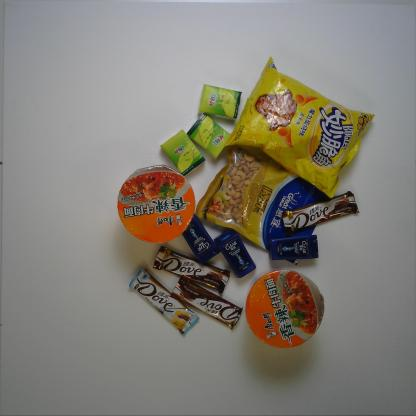Chocolate: (125, 268, 201, 338), (167, 270, 244, 330), (150, 242, 233, 297), (280, 190, 361, 237)
Dried Fruit: (194, 142, 337, 266)
Instant Noodles: (116, 163, 198, 248), (244, 269, 326, 350)
Personal Hygiene: (209, 227, 258, 280), (177, 212, 222, 265), (268, 231, 321, 262)
Puffed Food: (223, 54, 377, 202)
Tissue: (157, 127, 210, 176), (184, 113, 235, 160), (195, 80, 247, 122)
